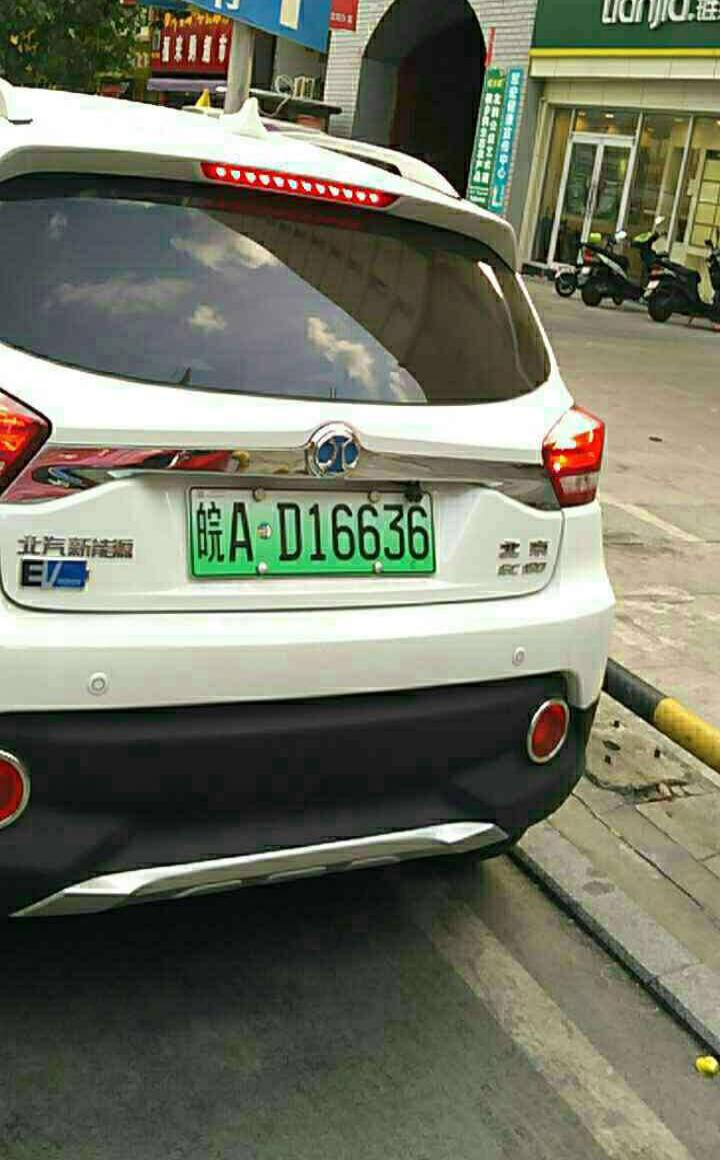car_id: (183, 488, 435, 577)
